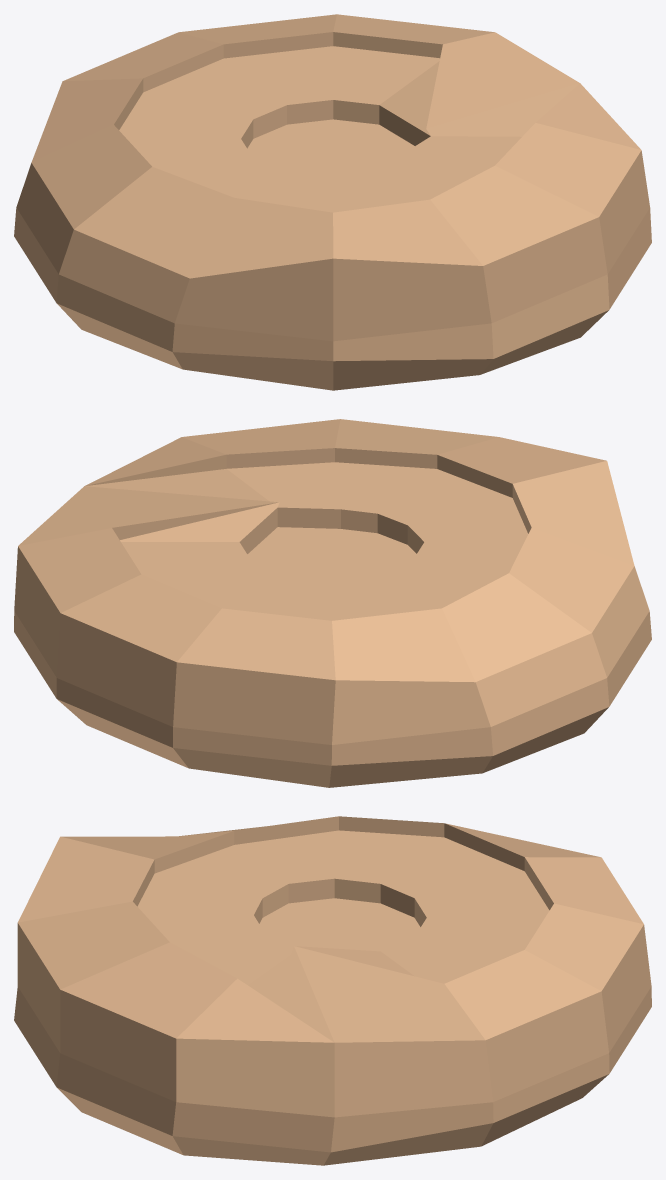
The model's file is Fosil.fbx.
3 views of the same model, one above another, from view 1: azimuth 30°, elevation 25°; view 2: azimuth 150°, elevation 25°; view 3: azimuth 270°, elevation 25° (orthographic).
Visible parts, largest first — view 1: Cylinder; view 2: Cylinder; view 3: Cylinder.
Boxes of the visible parts, bbox=[...] form: Cylinder: bbox=[14, 14, 651, 390]; Cylinder: bbox=[14, 419, 651, 787]; Cylinder: bbox=[14, 816, 651, 1165].
Size of the model in its own units: 39.89 by 10.43 by 40.26.
